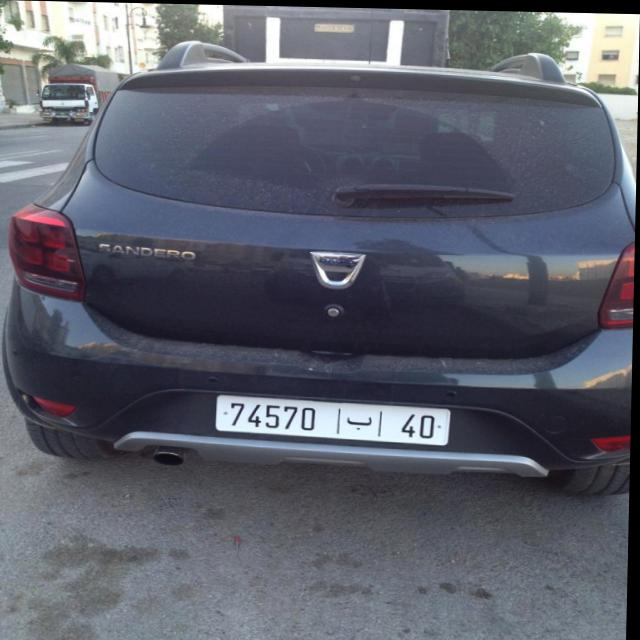License-Plate: (218, 394, 453, 444)
